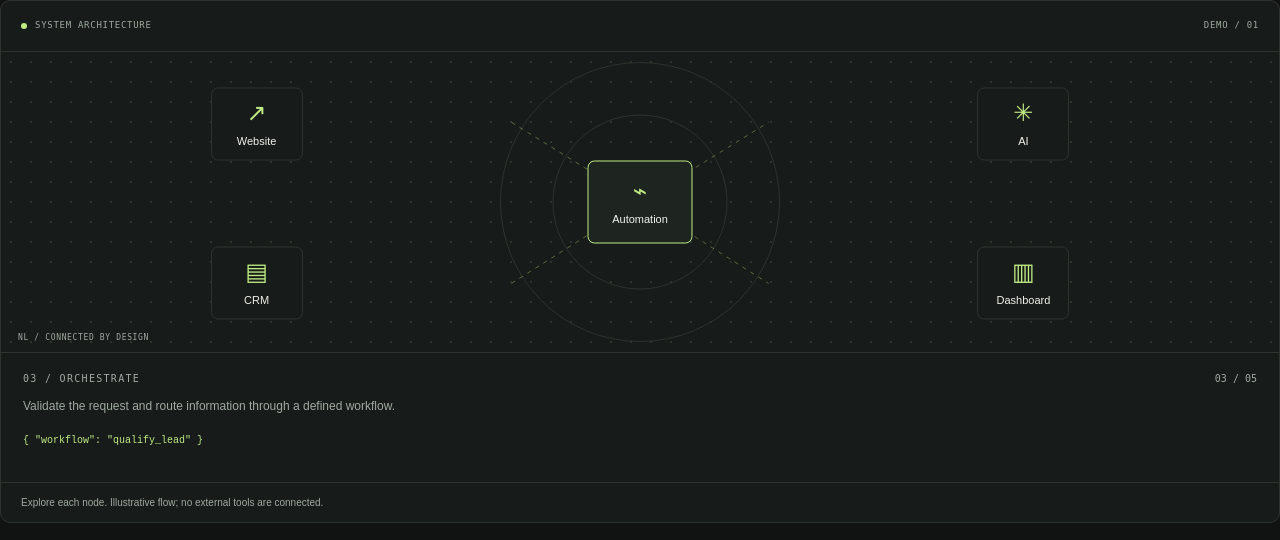
it: changes architecture details with keyboard-operable buttons
What coordinates should you click on to do the following:
click the button "▤ CRM"
I would click on:
 (257, 282)
Its box is [211,246,303,319].
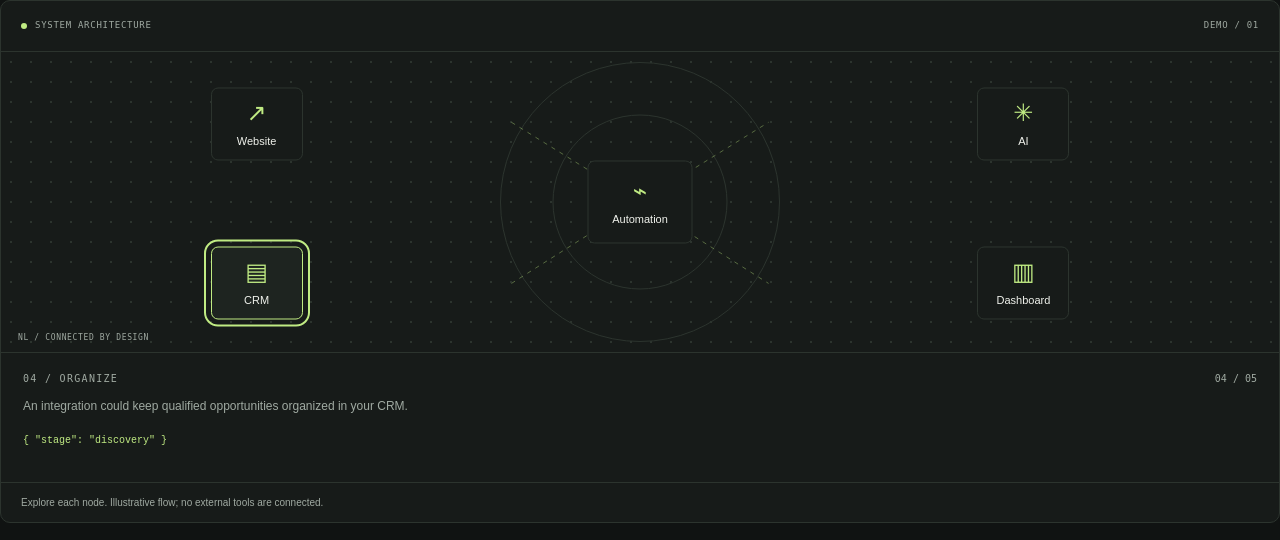
Expected: the text "An integration could" is shown, [23,398,408,412]
